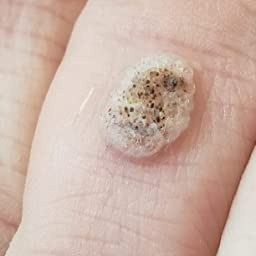Warts: (101, 43, 199, 162)
